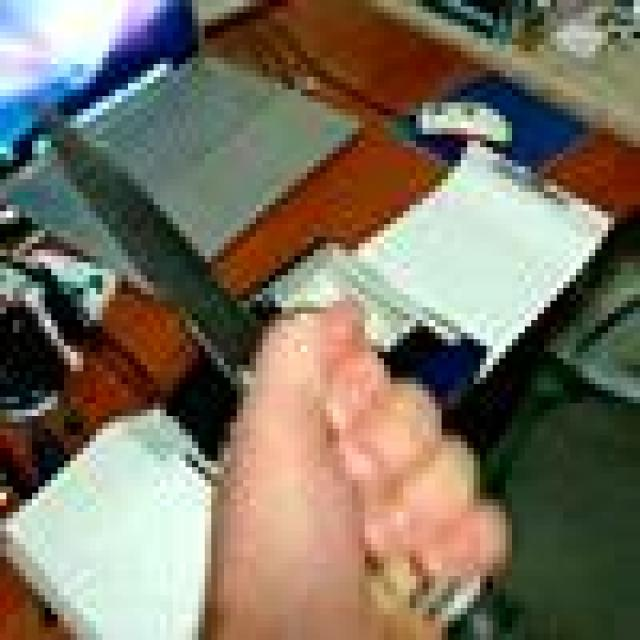knife: (38, 113, 259, 384)
